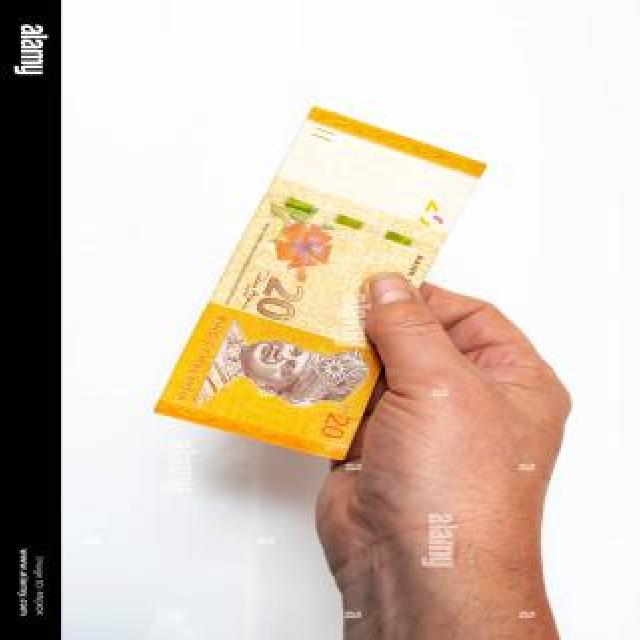20 Ringgit: (131, 98, 494, 477)
